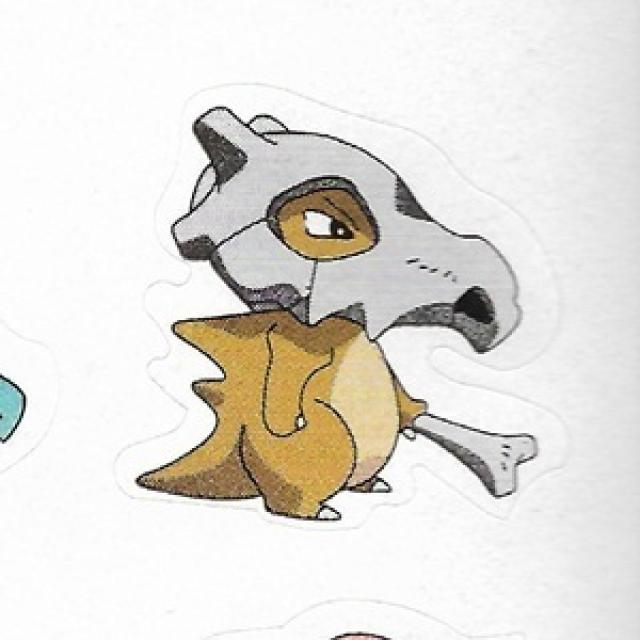Cubone: (157, 109, 526, 516)
